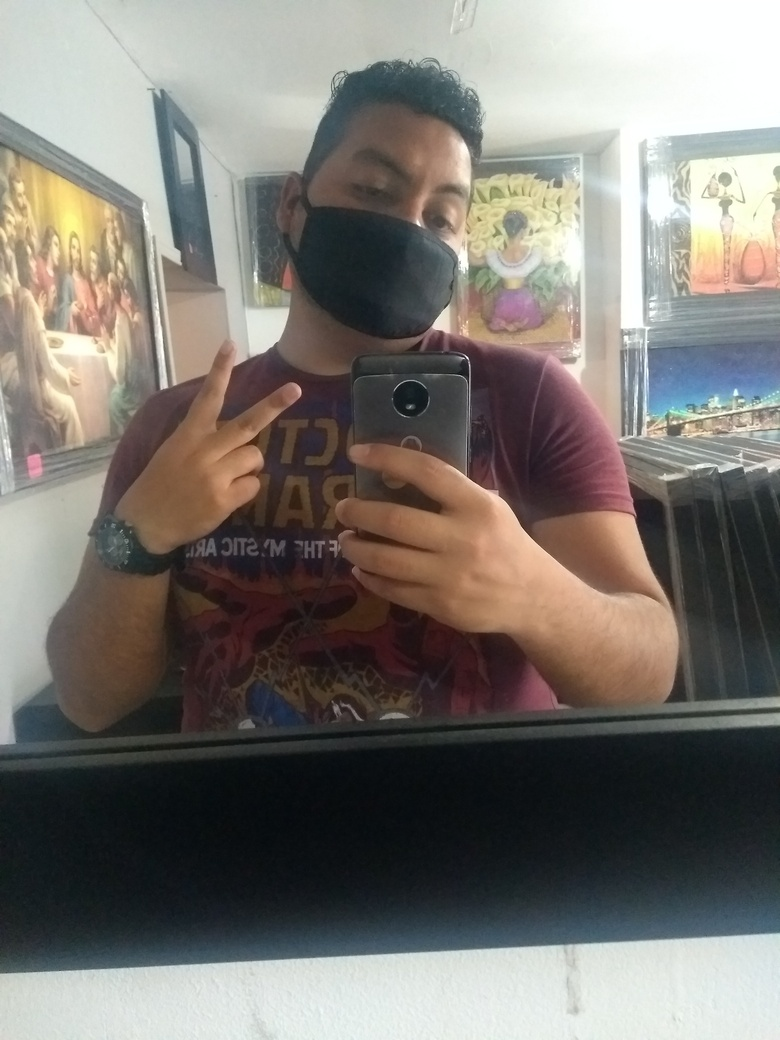Yoshi: (249, 36, 539, 360)
